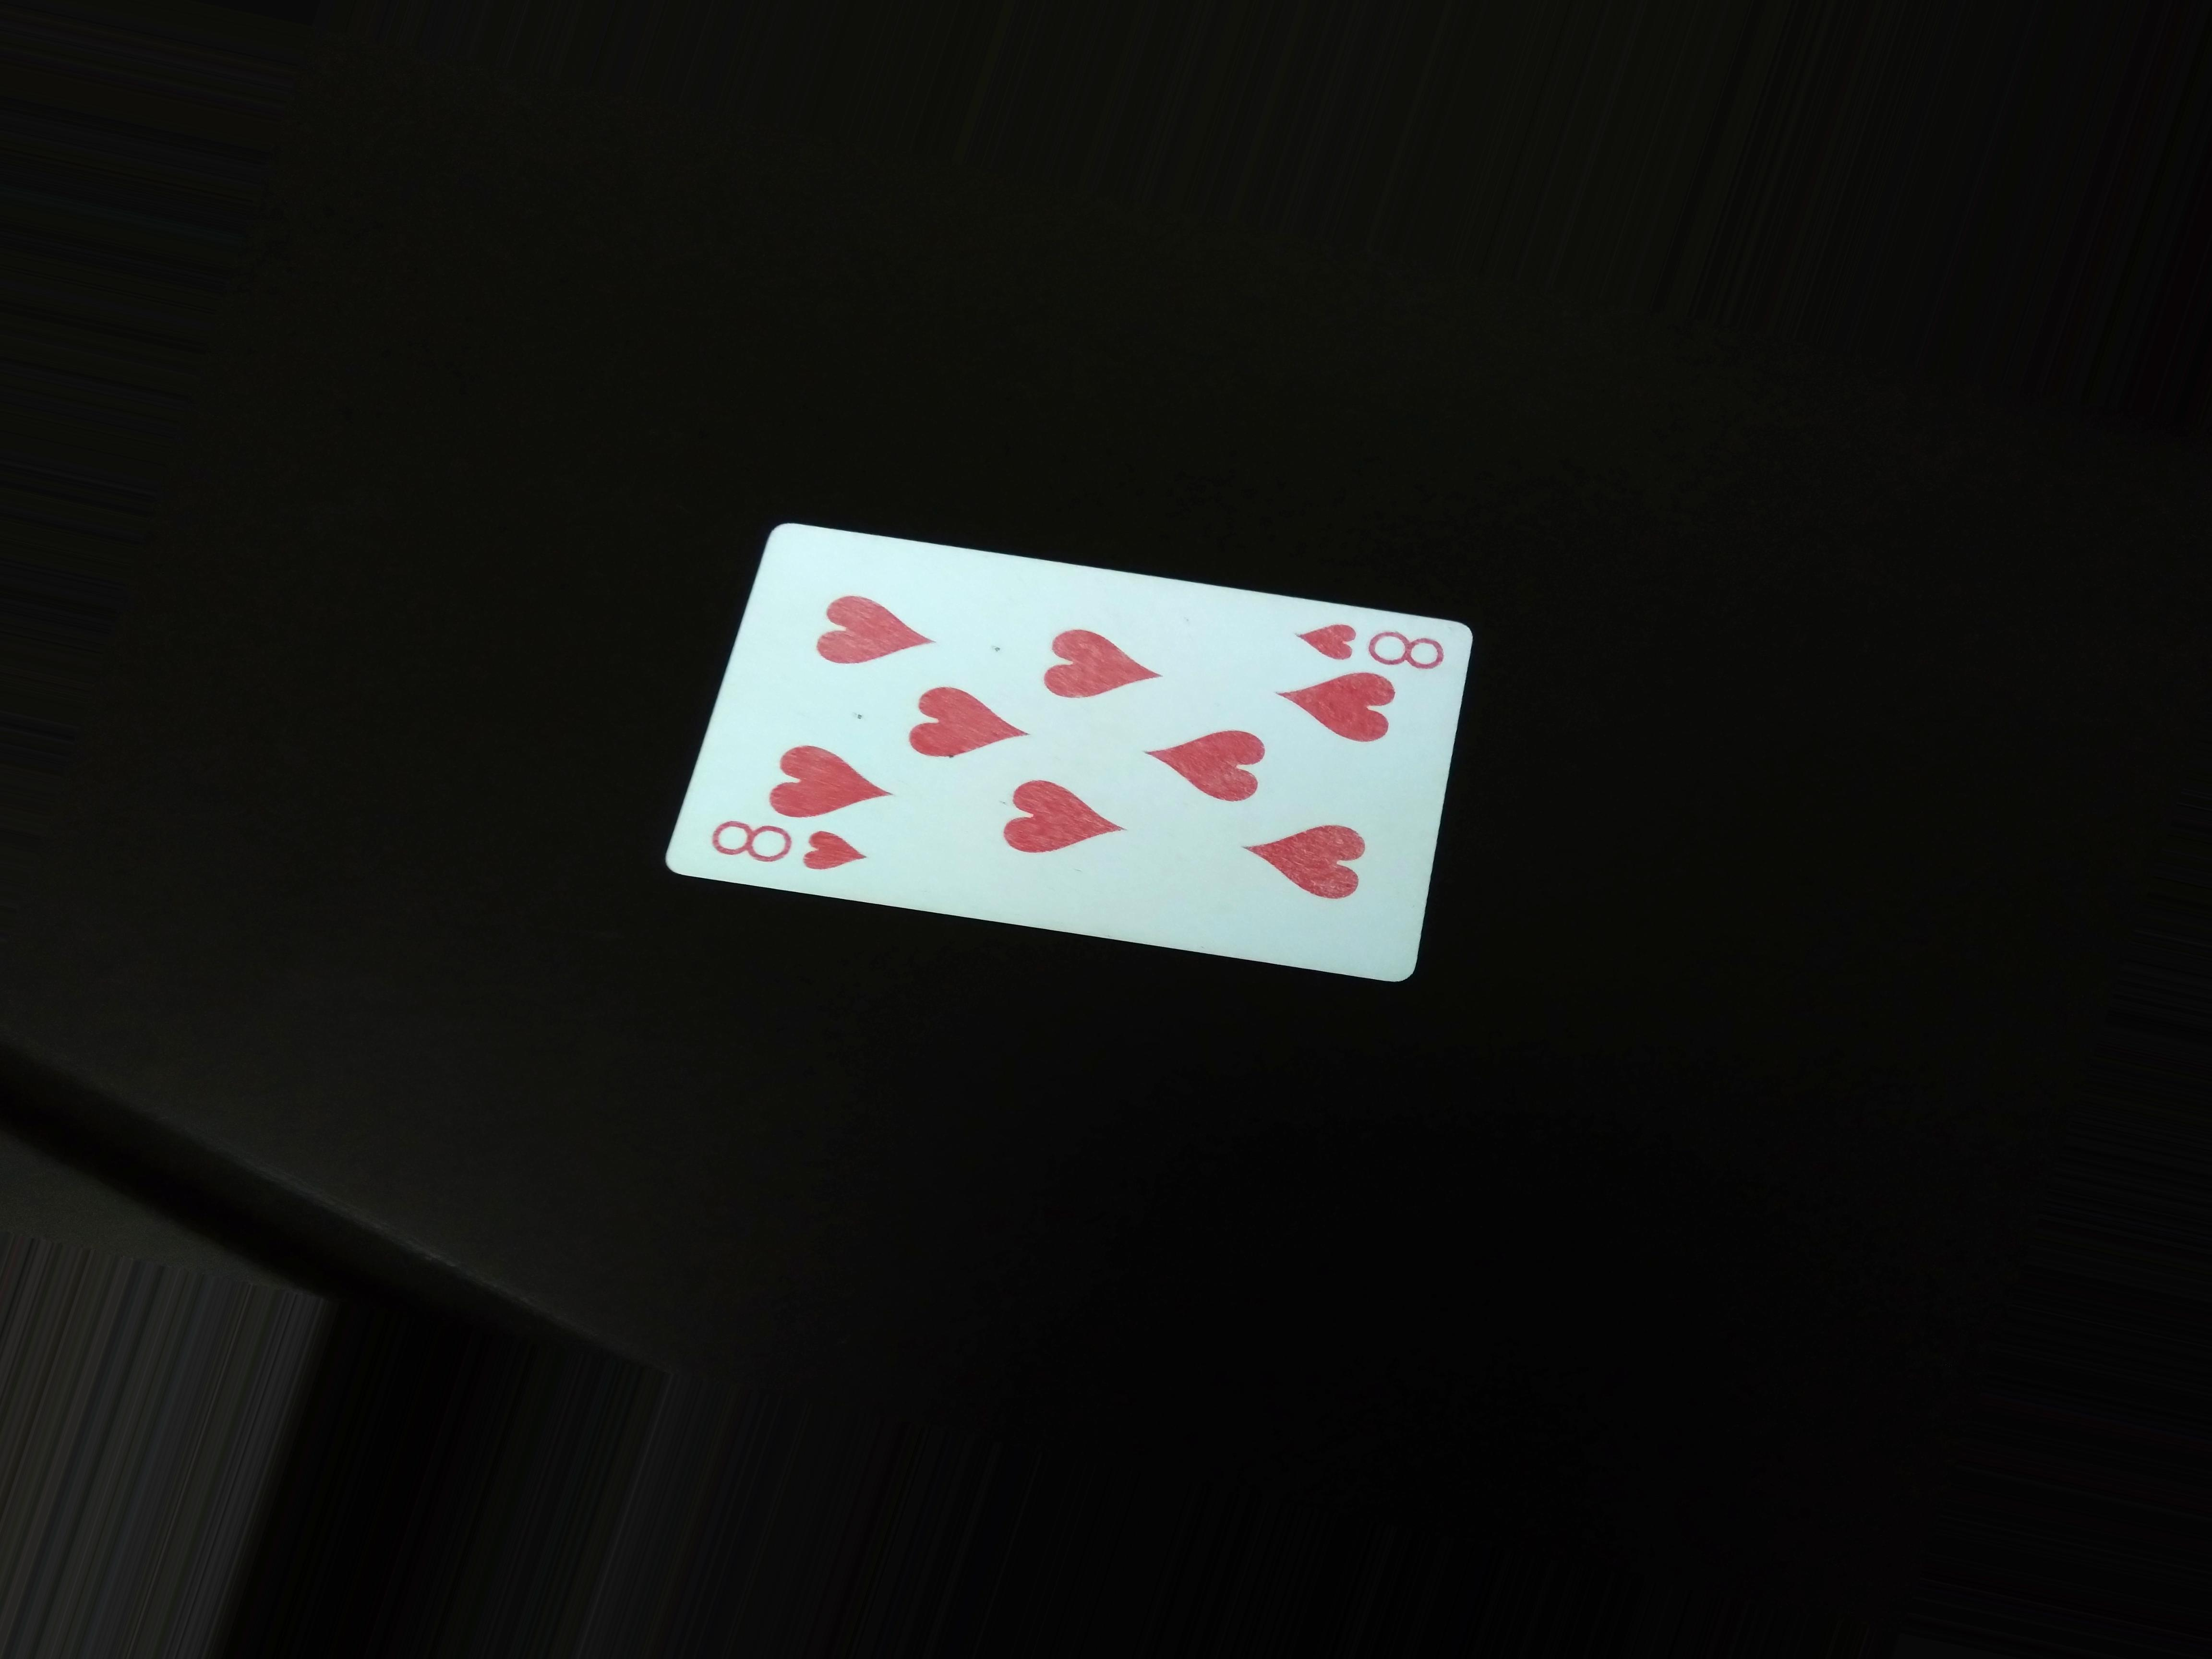8H: (686, 812, 895, 884)
